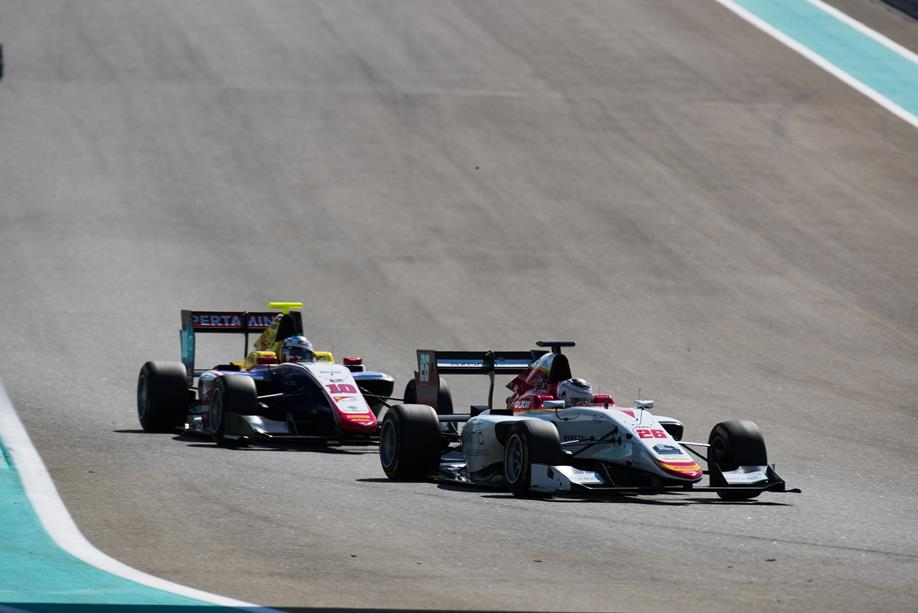race car: (374, 338, 804, 503), (133, 300, 458, 454)
